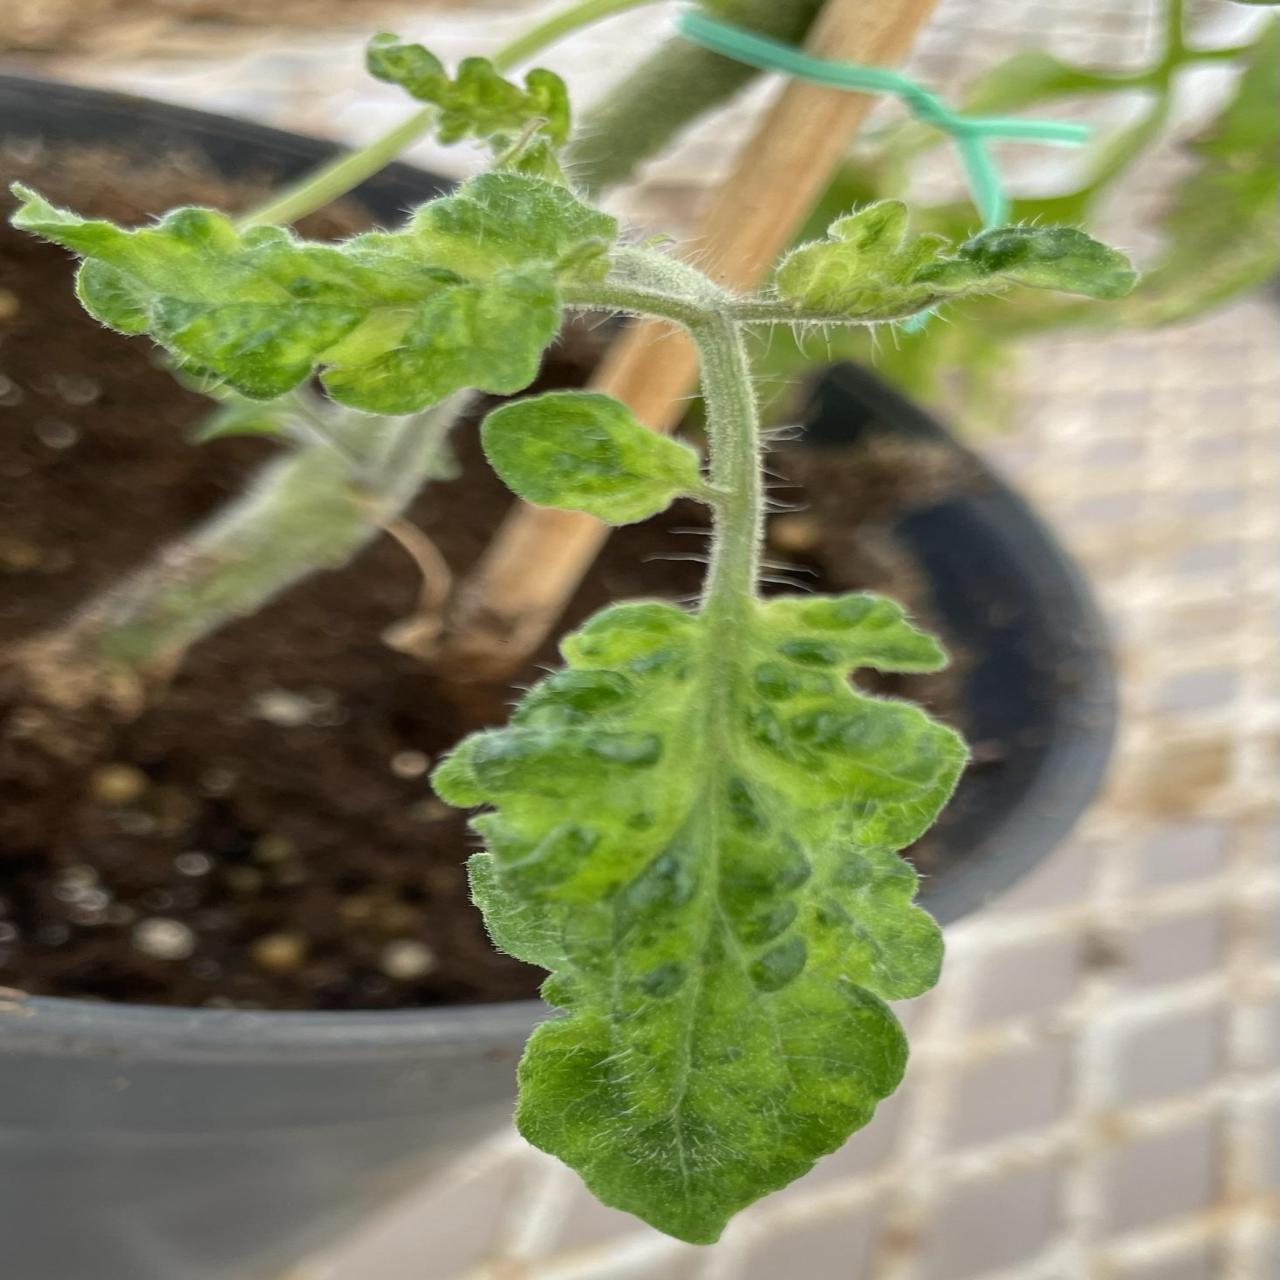T_L_R: (429, 559, 972, 1252), (16, 173, 618, 416), (776, 200, 1137, 321), (483, 392, 710, 526)
T_S_R: (692, 316, 765, 614)
